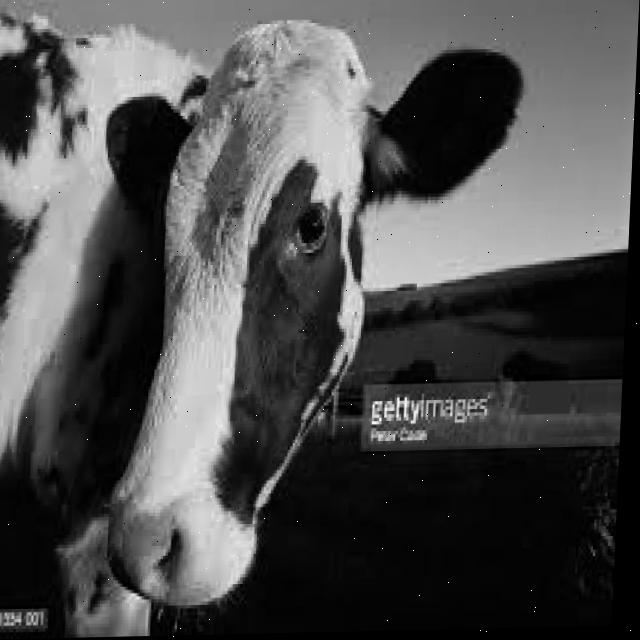Cow: (41, 46, 395, 608)
